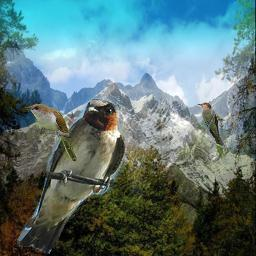Cuckoo: (22, 104, 77, 162), (197, 102, 227, 160)
Swallow: (16, 96, 127, 254)
